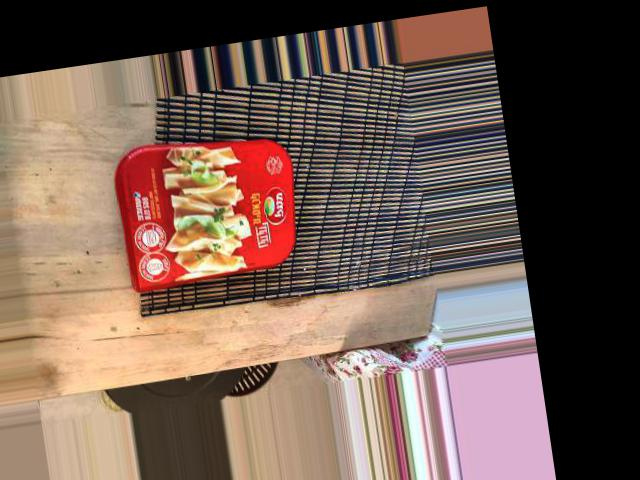cheese: (219, 59, 370, 265)
